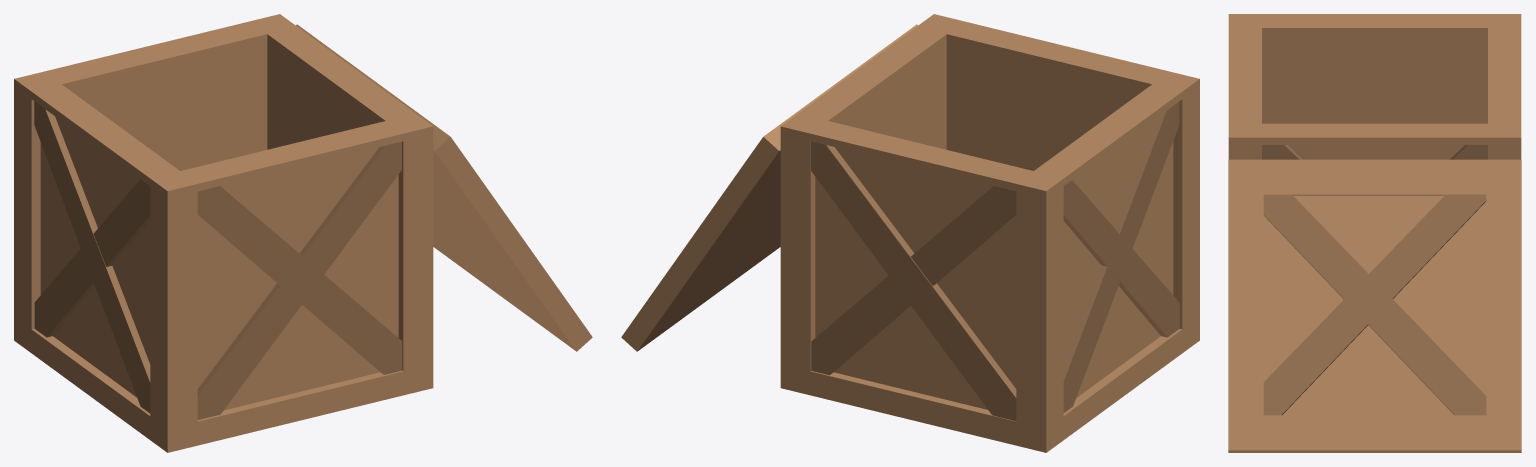
File: wood_crate_open.fbx
3 views of the same model, side by side, from view 1: azimuth 30°, elevation 25°; view 2: azimuth 150°, elevation 25°; view 3: azimuth 270°, elevation 25° (orthographic). The views are drawn at different scales.
Visible parts, largest first — view 1: Cube, Cube_cell.003, Cube_cell.004, Cube_cell, Cube_cell.001, Cube.002, Cube.008, Cube.009, Cube_cell.002, Cube.005, Cube.009_cell, Cube.003 (+7 smaller); view 2: Cube, Cube_cell.001, Cube.004, Cube_cell.004, Cube_cell.003, Cube.009, Cube.007, Cube_cell.002, Cube.005, Cube.003_cell.004, Cube.009_cell.002, Cube.009_cell.004 (+10 smaller); view 3: Cube.009, Cube, Cube.009_cell.004, Cube.009_cell, Cube_cell.004, Cube.009_cell.002, Cube.011, Cube.010, Cube.010_cell, Cube.011_cell.001, Cube_cell.003, Cube.009_cell.001 (+2 smaller).
Part boxes in pixels (x1,y1,x2,y2): Cube: (23,34,433,452); Cube_cell.003: (23,85,417,370); Cube_cell.004: (30,14,424,170); Cube_cell: (296,120,433,419); Cube_cell.001: (14,75,89,389); Cube.002: (197,186,402,374); Cube.008: (197,141,401,419); Cube.009: (296,24,591,337); Cube_cell.002: (80,303,295,452); Cube.005: (34,179,150,337); Cube.009_cell: (433,198,592,351); Cube.003: (34,101,150,382); Cube: (780,14,1199,452); Cube_cell.001: (780,181,1113,452); Cube.004: (811,141,1016,420); Cube_cell.004: (780,20,1039,360); Cube_cell.003: (1034,47,1199,314); Cube.009: (637,34,905,351); Cube.007: (811,186,1016,374); Cube_cell.002: (1101,256,1199,402); Cube.005: (1063,104,1178,412); Cube.003_cell.004: (1063,180,1128,274); Cube.009_cell.002: (621,247,700,351); Cube.009_cell.004: (685,81,840,261); Cube.009: (1228,159,1521,452); Cube: (1228,14,1521,159); Cube.009_cell.004: (1375,159,1521,333); Cube.009_cell: (1228,305,1402,452); Cube_cell.004: (1245,21,1521,159); Cube.009_cell.002: (1390,320,1521,452); Cube.011: (1263,194,1486,415); Cube.010: (1263,195,1486,408); Cube.010_cell: (1263,313,1368,415); Cube.011_cell.001: (1263,194,1355,310); Cube_cell.003: (1233,17,1503,130); Cube.009_cell.001: (1486,159,1521,194).
Size of the model in its own units: 580 by 341 by 363.
